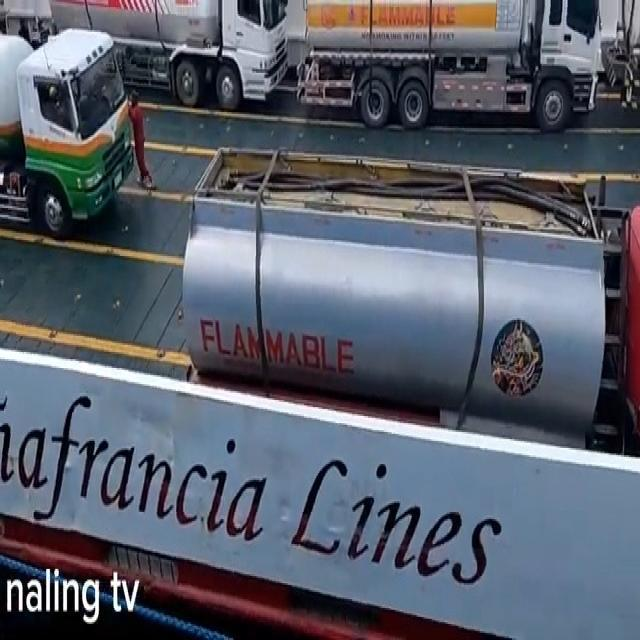truck: (180, 145, 640, 469), (296, 0, 604, 129), (0, 26, 135, 241), (49, 0, 291, 112)
